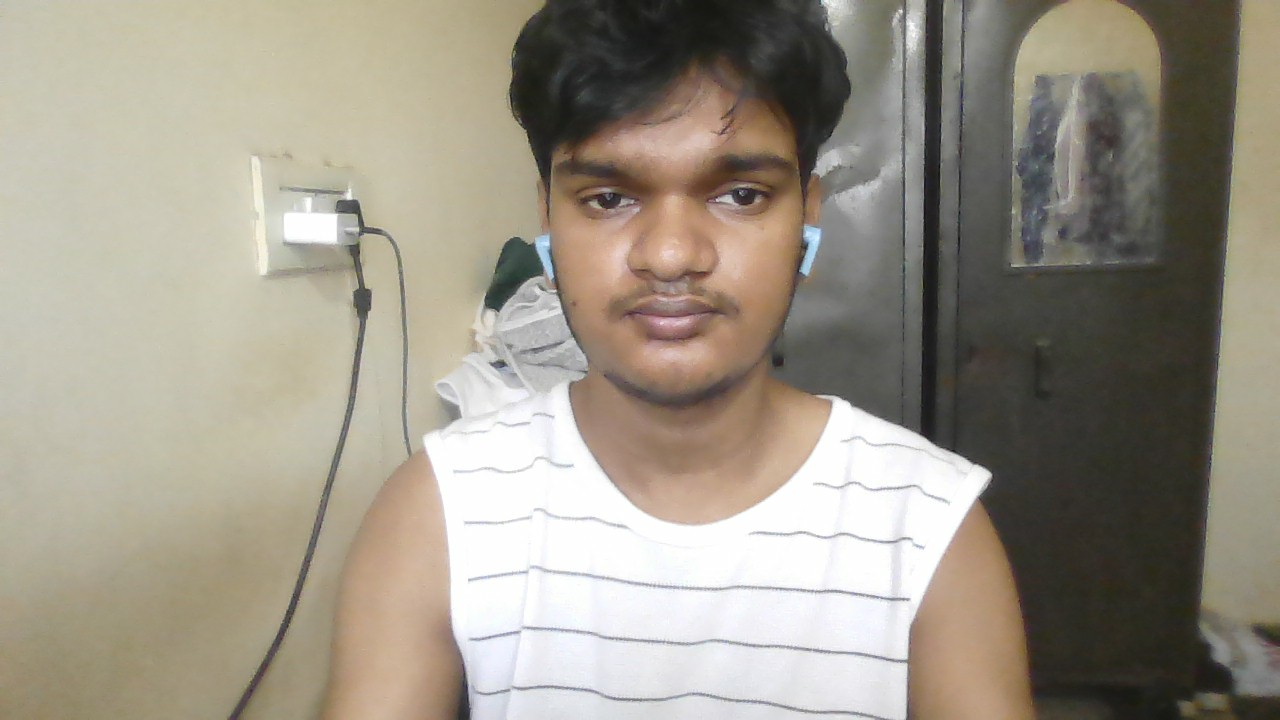earphone: (533, 231, 557, 282)
